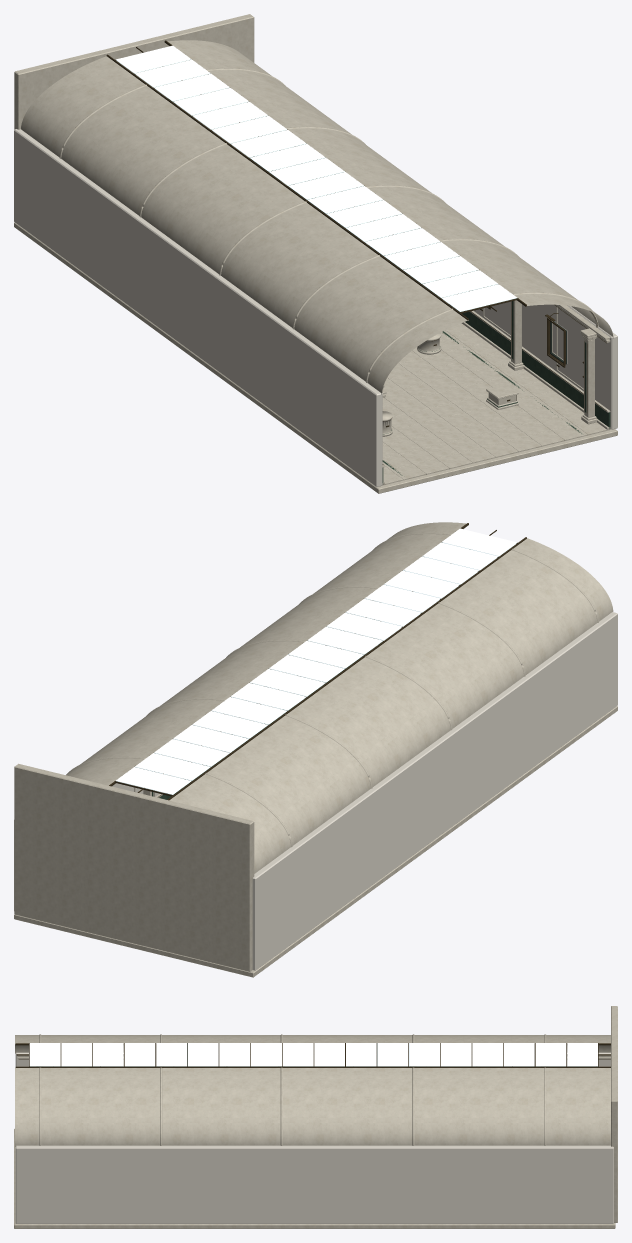
File: museum.glb
3 renders of one model, top to bottom at view 1: azimuth 30°, elevation 25°; view 2: azimuth 150°, elevation 25°; view 3: azimuth 270°, elevation 25°, orthographic. The views are drawn at different scales.
Visible parts, largest first — view 1: Vault__Museum_ivory_limestone, Walls__Museum_warm_mineral_plaster, Vault__Museum_skylight_frosted_glass, Floor__Museum_honed_pale_stone, Apse__Museum_ivory_limestone, Floor__Museum_ivory_limestone, Walls__Museum_verde_antiquity, Pilasters__Museum_ivory_limestone, Walls__Museum_ivory_limestone, Vault__Museum_warm_aged_brass; view 2: Vault__Museum_ivory_limestone, Apse__Museum_ivory_limestone, Walls__Museum_warm_mineral_plaster, Vault__Museum_skylight_frosted_glass, Floor__Museum_ivory_limestone, Vault__Museum_warm_aged_brass; view 3: Vault__Museum_ivory_limestone, Walls__Museum_warm_mineral_plaster, Vault__Museum_skylight_frosted_glass, Floor__Museum_ivory_limestone, Vault__Museum_warm_aged_brass, Apse__Museum_ivory_limestone.
Part boxes in pixels (box(x1,y1,x2,y2)): Vault__Museum_ivory_limestone: box(21, 40, 613, 394); Walls__Museum_warm_mineral_plaster: box(14, 118, 617, 486); Vault__Museum_skylight_frosted_glass: box(115, 45, 517, 311); Floor__Museum_honed_pale_stone: box(382, 323, 610, 485); Apse__Museum_ivory_limestone: box(14, 14, 254, 157); Floor__Museum_ivory_limestone: box(14, 222, 617, 493); Walls__Museum_verde_antiquity: box(249, 156, 610, 482); Pilasters__Museum_ivory_limestone: box(278, 149, 597, 424); Walls__Museum_ivory_limestone: box(316, 194, 610, 484); Vault__Museum_warm_aged_brass: box(106, 40, 597, 327); Vault__Museum_ivory_limestone: box(66, 522, 613, 873); Apse__Museum_ivory_limestone: box(14, 763, 254, 971); Walls__Museum_warm_mineral_plaster: box(14, 612, 617, 970); Vault__Museum_skylight_frosted_glass: box(115, 528, 517, 794); Floor__Museum_ivory_limestone: box(14, 706, 617, 977); Vault__Museum_warm_aged_brass: box(109, 523, 526, 800); Vault__Museum_ivory_limestone: box(15, 1034, 610, 1146); Walls__Museum_warm_mineral_plaster: box(15, 1052, 613, 1223); Vault__Museum_skylight_frosted_glass: box(29, 1043, 597, 1066); Floor__Museum_ivory_limestone: box(14, 1128, 615, 1228); Vault__Museum_warm_aged_brass: box(15, 1043, 610, 1067); Apse__Museum_ivory_limestone: box(611, 1006, 617, 1222).
Size of the model in its own units: 21 by 12.81 by 55.02.
9 materials, 5 textured.
